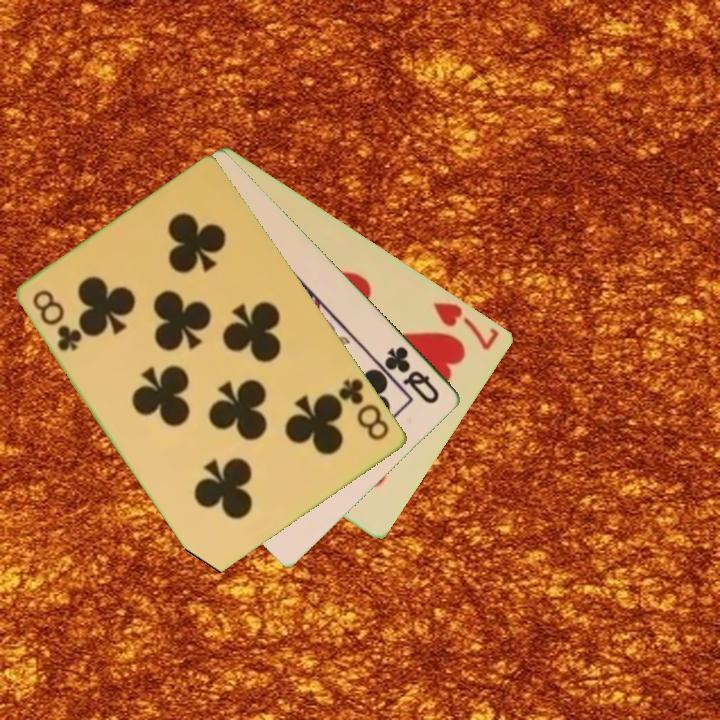7h: (430, 298, 503, 353)
8c: (335, 375, 393, 444), (29, 286, 86, 355)
Qc: (381, 342, 443, 407)
